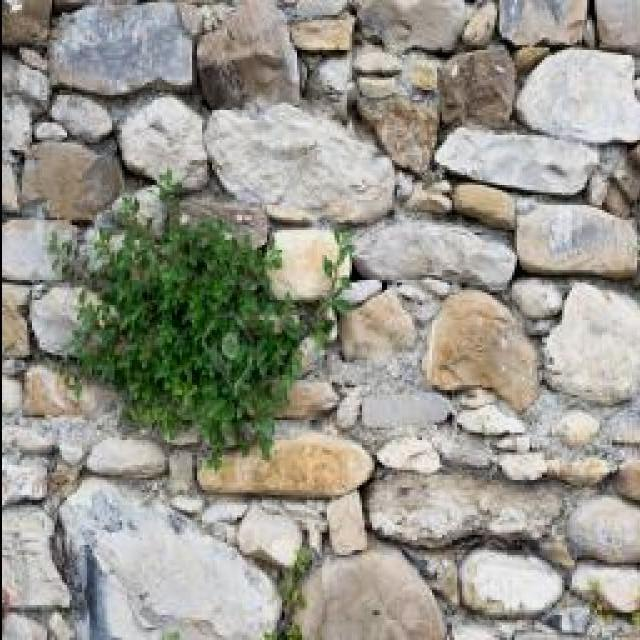crack: (1, 0, 638, 638), (288, 15, 357, 54), (591, 0, 640, 54)
dampens: (55, 482, 282, 639)
vegetation: (43, 168, 349, 472), (202, 103, 393, 228), (55, 208, 164, 400), (48, 0, 198, 101), (348, 217, 518, 291), (191, 1, 302, 113), (516, 48, 640, 148), (353, 62, 448, 176), (515, 201, 639, 281), (115, 93, 215, 191), (54, 482, 138, 595), (17, 140, 125, 225), (2, 505, 72, 612), (258, 228, 352, 307), (438, 46, 521, 131), (361, 1, 475, 56), (29, 284, 110, 361), (1, 219, 81, 288), (20, 364, 107, 422), (179, 194, 272, 245), (498, 0, 588, 51), (5, 415, 96, 464), (360, 276, 456, 321), (48, 91, 119, 145), (109, 183, 177, 239), (586, 147, 640, 217), (450, 181, 519, 229), (304, 55, 355, 109), (2, 0, 56, 47), (3, 459, 53, 509), (2, 96, 37, 167), (1, 283, 33, 354), (9, 57, 52, 108), (176, 2, 235, 37), (402, 53, 445, 97), (284, 1, 355, 22), (351, 49, 402, 78), (34, 120, 69, 142)
